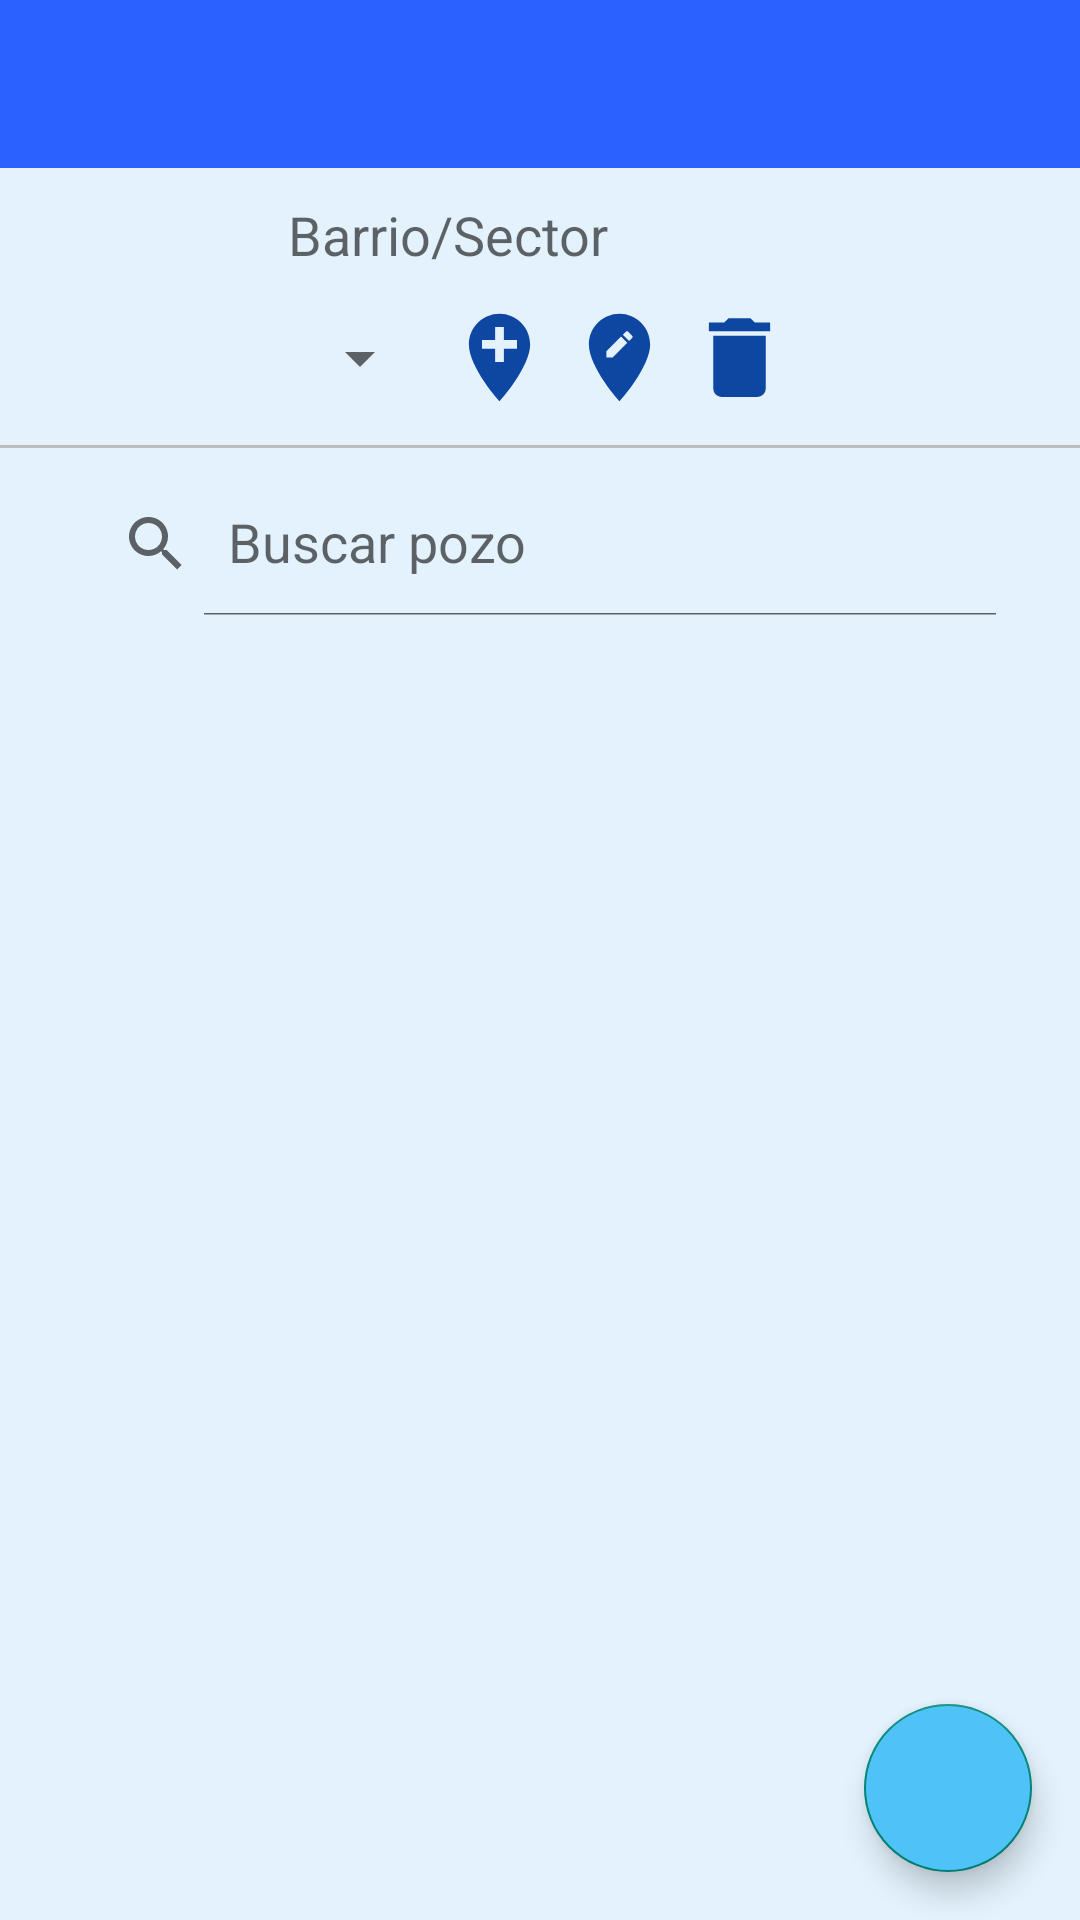

Where icons sit on this 1080*1920 app screen, as (x1, y1, x2, y2):
Añadir sector: (468, 313, 530, 401)
Editar sector: (589, 313, 650, 401)
Eliminar sector: (708, 318, 771, 397)
